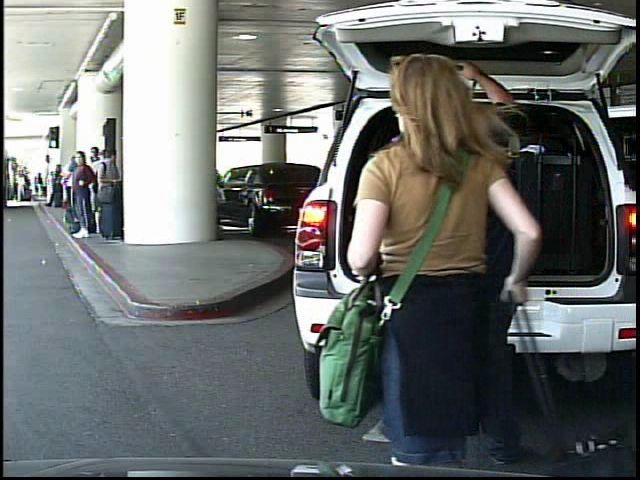person: (337, 41, 536, 477), (385, 68, 551, 458), (16, 174, 27, 205), (35, 172, 46, 199)
